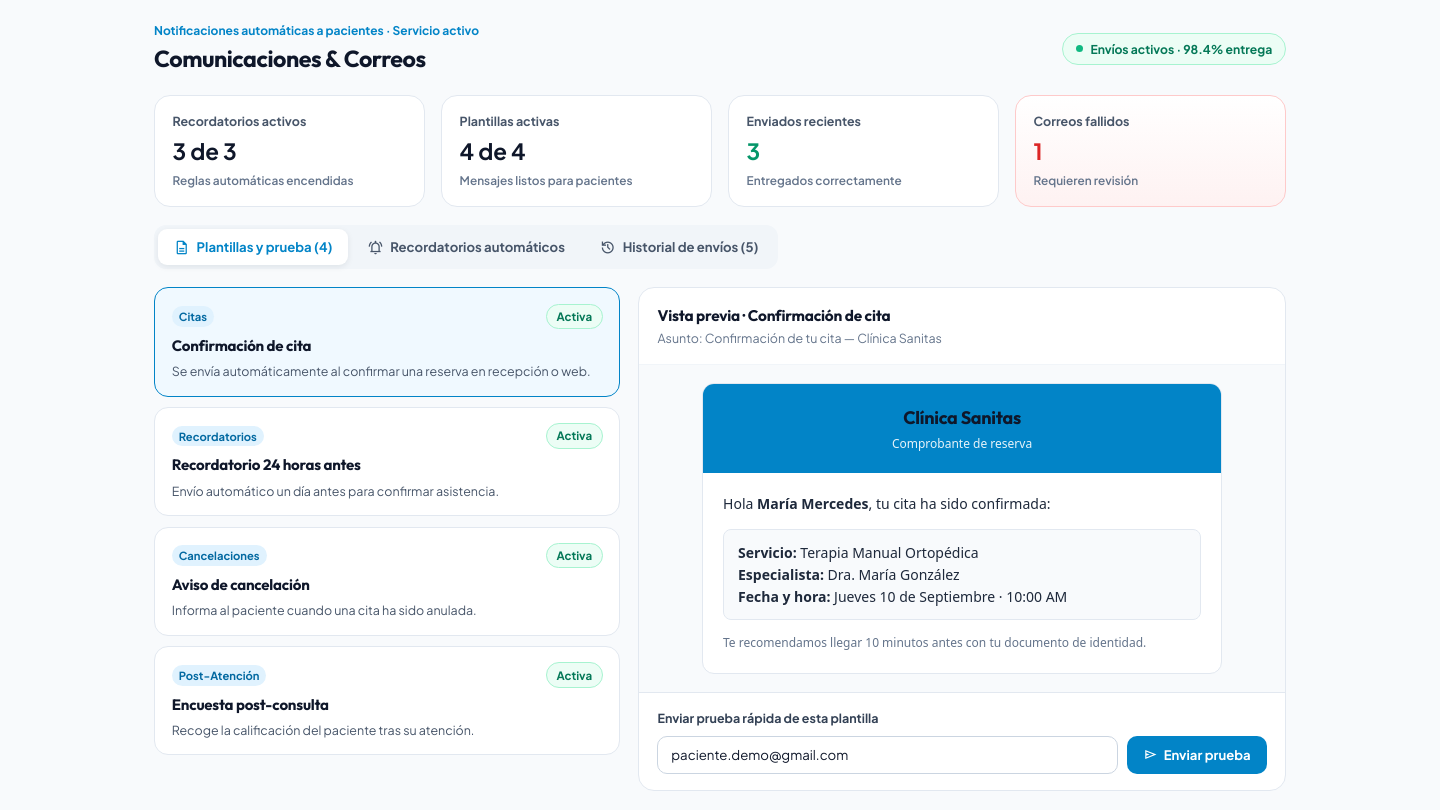
Test: CommunicationsPage › should switch to logs tab and display audit logs table
Step 1. Click the tab with id "tab-logs" → (679, 247), box top-left (584, 229), bottom-right (774, 265)
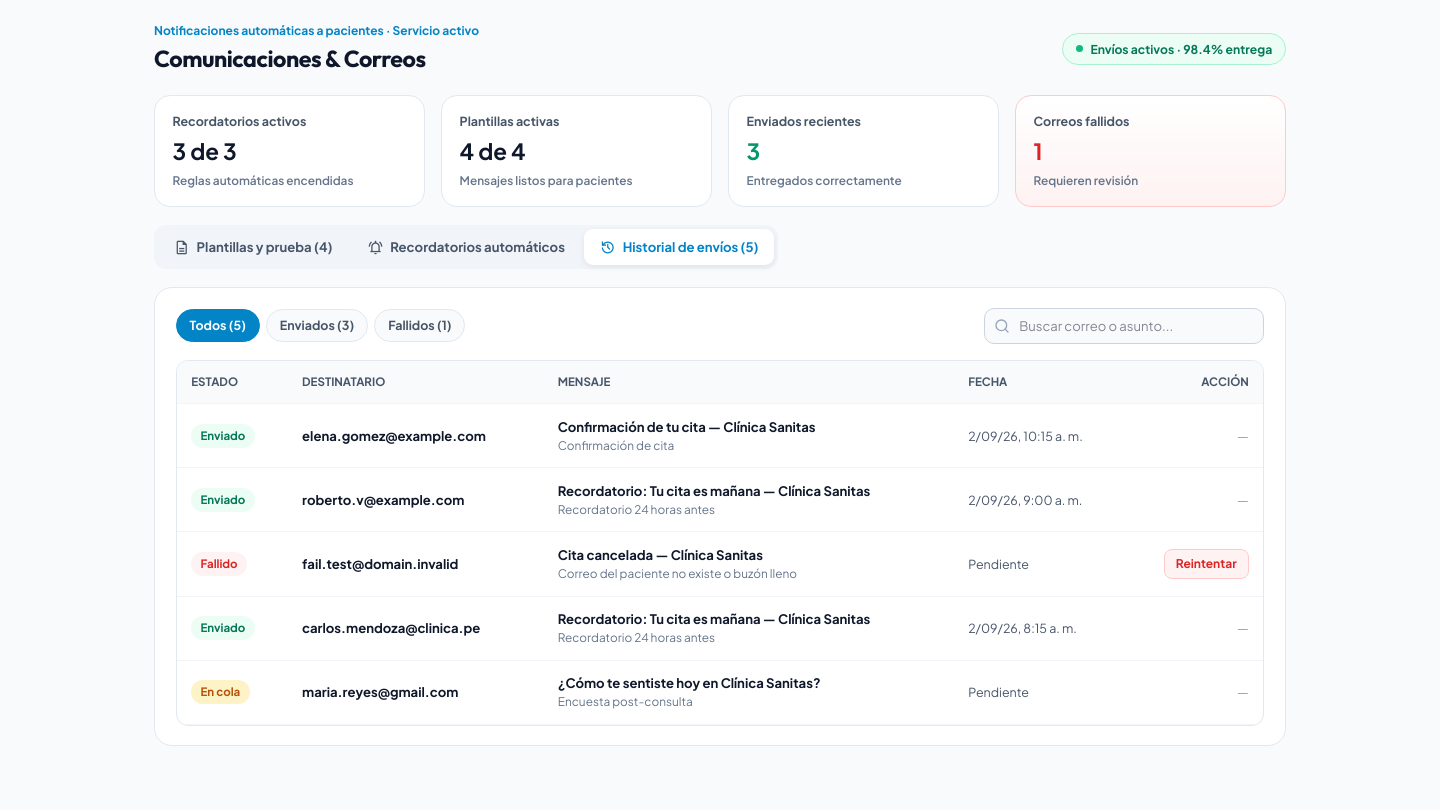
Result: the table with id "logs-table" is shown at top-left (177, 360), bottom-right (1263, 725)
Result: the text "elena.gomez@example.com" is shown at top-left (288, 404), bottom-right (543, 468)
